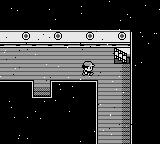main: (82, 62, 95, 75)
no-caminable: (1, 0, 160, 143), (1, 81, 96, 143), (0, 30, 130, 47)
puerta: (32, 80, 51, 98), (114, 48, 130, 63)
